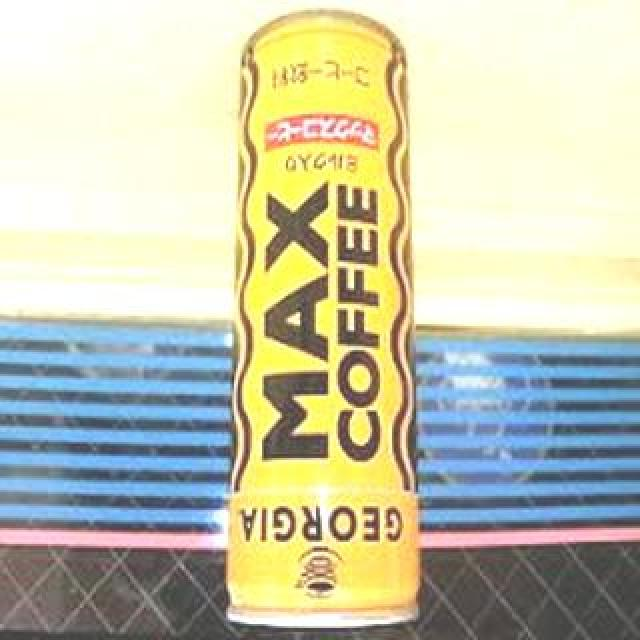Can: (216, 13, 430, 633)
